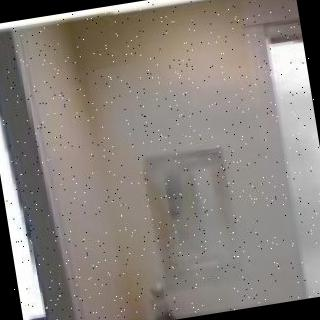smoke: (107, 62, 320, 320)
